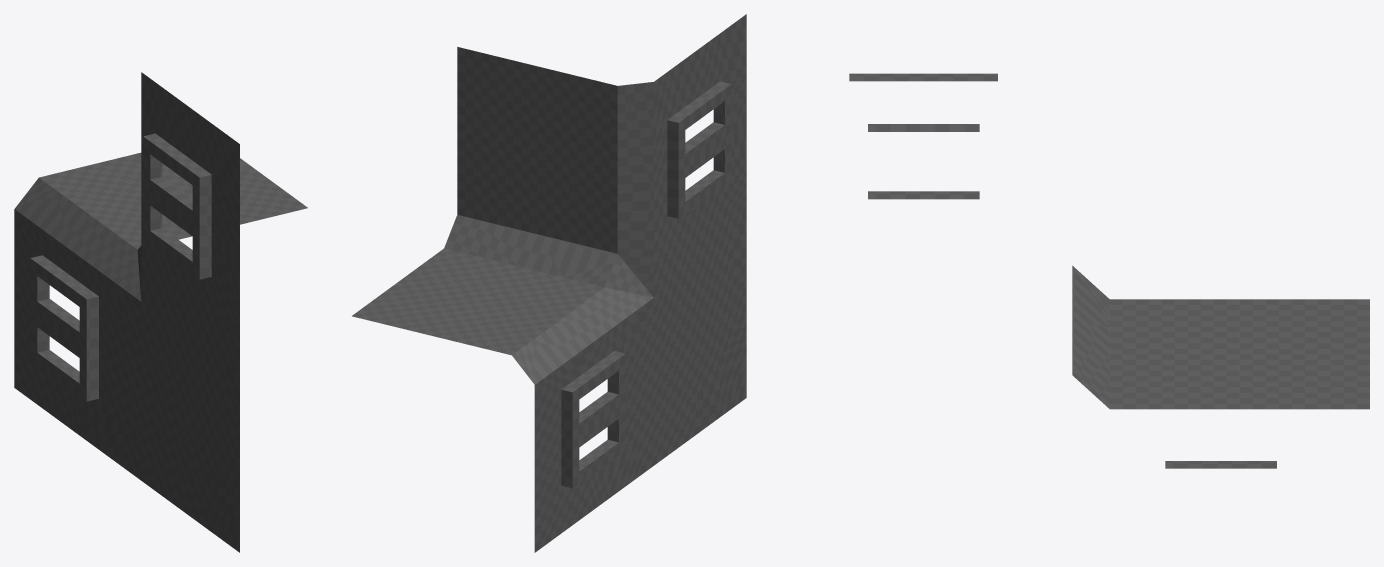
3 views of the same model, side by side, from view 1: azimuth 30°, elevation 25°; view 2: azimuth 150°, elevation 25°; view 3: azimuth 270°, elevation 25° (orthographic). The views are drawn at different scales.
Visible parts, largest first — view 1: 2; view 2: 2; view 3: 2.
Part boxes in pixels (bbox=[...]): 2: bbox=[14, 72, 307, 552]; 2: bbox=[352, 14, 746, 552]; 2: bbox=[849, 73, 1369, 468].
Size of the model in its own units: 2.12 by 4 by 4.
Materials: 2 (2 with a texture image).
